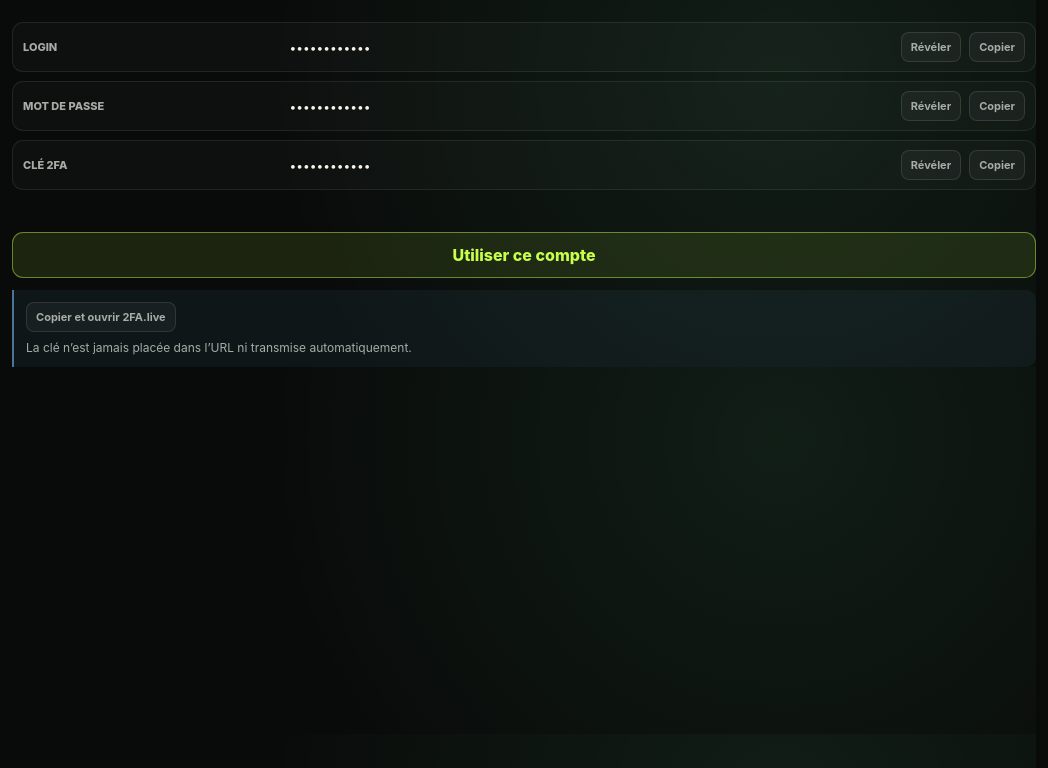
Scenario: actions rapides d’un compte › permet de révéler puis de remasquer une valeur
Click the button with aria-label "Révéler : Login" at (931, 47), box [901,32,961,62]
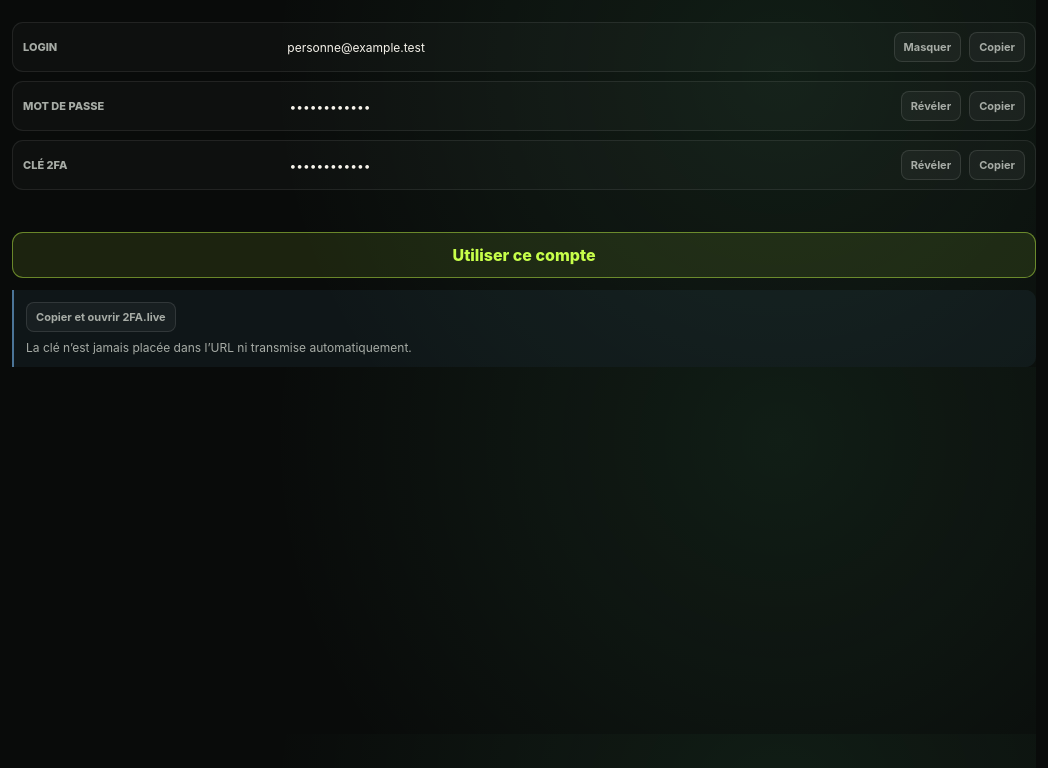
Expected: the text "personne@example.test" is shown, [287,40,425,54]
Click the button with aria-label "Masquer : Login" at (927, 47), box [894,32,961,62]
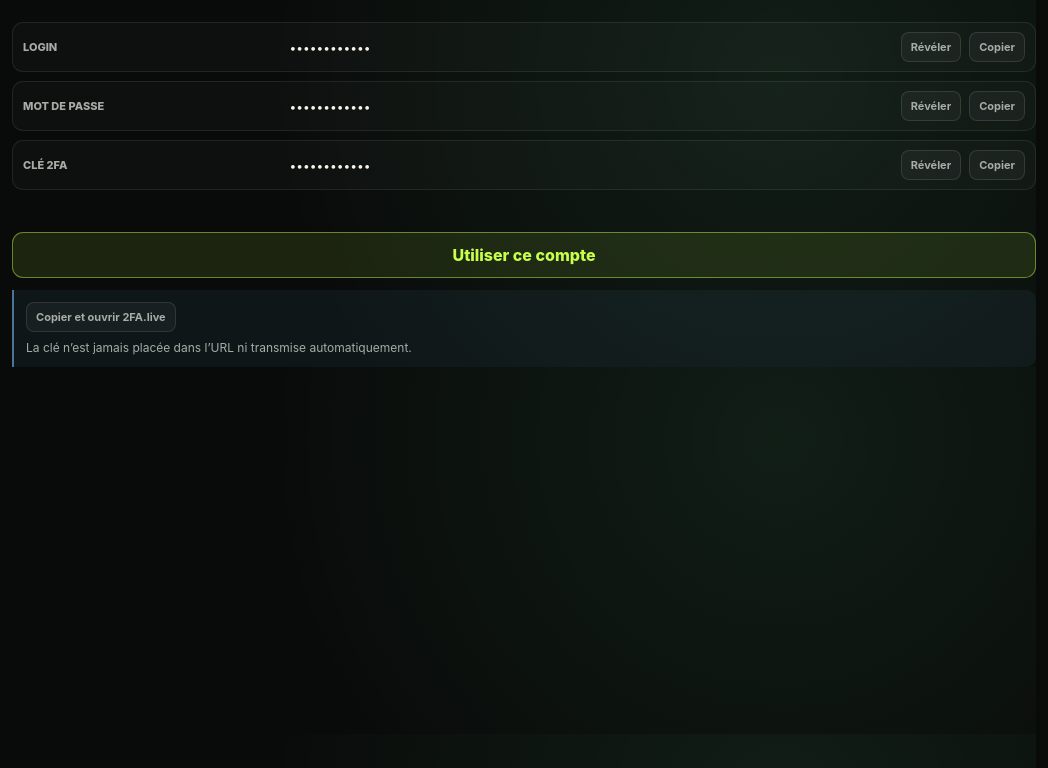
Expected: the text "personne@example.test" is gone
